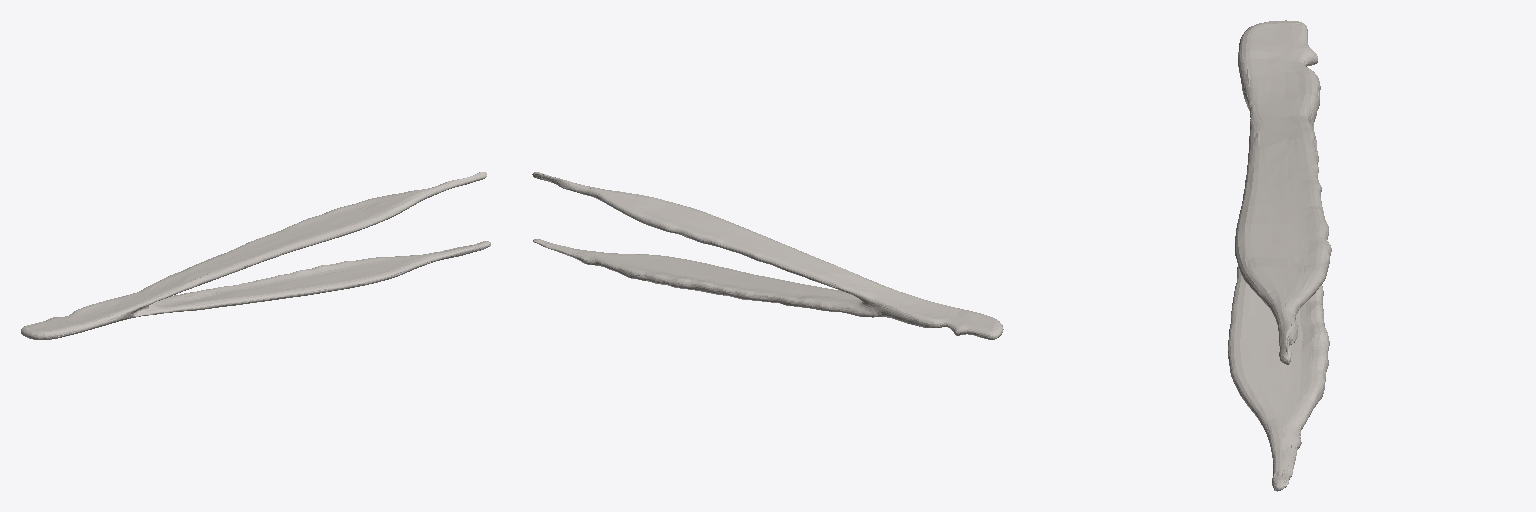
robot.urdf — Tooling_22:
<?xml version="1.0" encoding="utf-8"?>
<!-- This URDF was automatically created by SolidWorks to URDF Exporter! Originally created by Stephen Brawner (brawner@gmail.com)
     Commit Version: 1.6.0-4-g7f85cfe  Build Version: 1.6.7995.38578
     For more information, please see http://wiki.ros.org/sw_urdf_exporter -->
<robot
  name="Tooling_22">
  <link
    name="base_link">
    <inertial>
      <origin
        xyz="-2.6867E-05 -0.00027217 -4.5021E-05"
        rpy="0 0 0" />
      <mass
        value="0.023638" />
      <inertia
        ixx="8.6091E-07"
        ixy="-3.3099E-07"
        ixz="6.8535E-08"
        iyy="1.9965E-05"
        iyz="8.6987E-09"
        izz="2.048E-05" />
    </inertial>
    <visual>
      <origin
        xyz="0 0 0"
        rpy="0 0 0" />
      <geometry>
        <mesh
          filename="../meshes/base_link.STL" />
      </geometry>
      <material
        name="">
        <color
          rgba="0.77647 0.75686 0.73725 1" />
      </material>
    </visual>
    <collision>
      <origin
        xyz="0 0 0"
        rpy="0 0 0" />
      <geometry>
        <mesh
          filename="../meshes/base_link.STL" />
      </geometry>
    </collision>
  </link>
</robot>

--- Facts derived from the render (not from the file) ---
3 views of the same robot in one strip: view 1: azimuth 30°, elevation 25°; view 2: azimuth 150°, elevation 25°; view 3: azimuth 270°, elevation 25° (orthographic).
Robot: Tooling_22 — 1 links, 0 joints (none); root link base_link; default pose: every joint at zero.
Links seen in each view (by area): view 1: base_link; view 2: base_link; view 3: base_link.
Boxes of the visible links, <box> form: base_link: <box>21,172,490,339</box>; base_link: <box>532,172,1003,339</box>; base_link: <box>1228,20,1331,491</box>.
Bounding box of the posed robot: 0.1233 × 0.0127 × 0.0197 m (x, y, z).
Meshes: 1 distinct files referenced, 1 mesh visuals loaded (1 binary STL).
